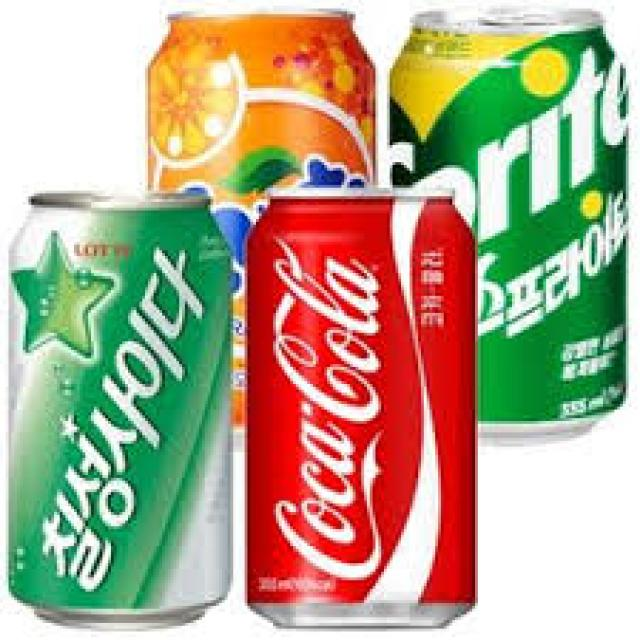Coca-Cola: (239, 184, 486, 628)
